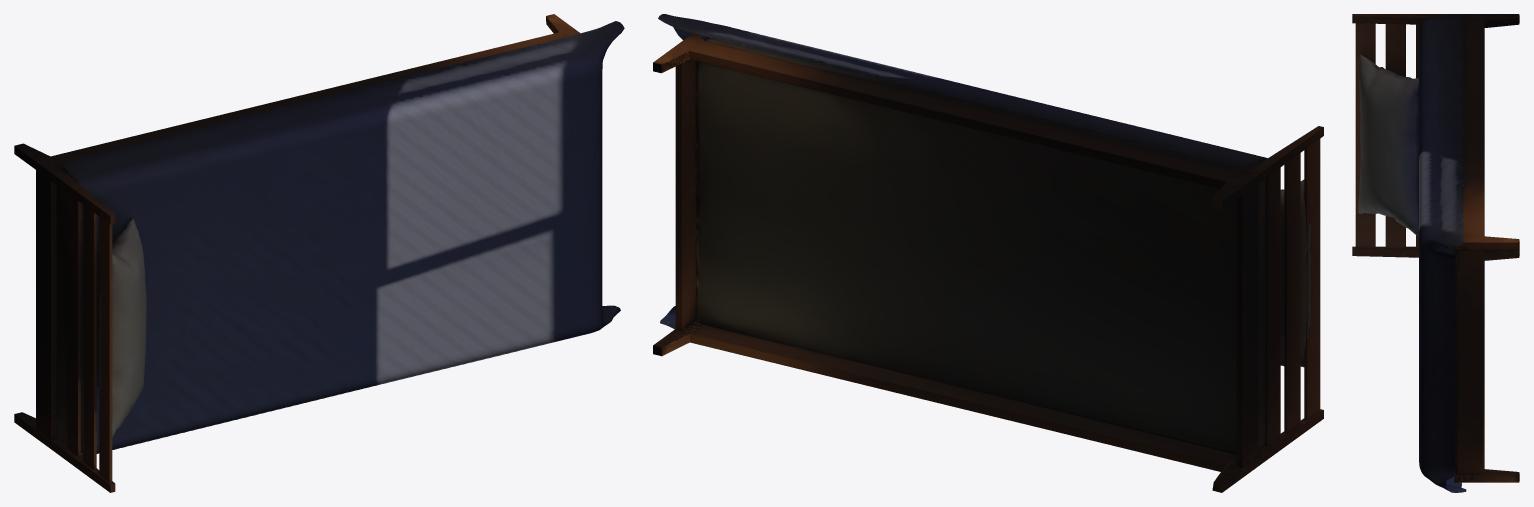
File: Bed.obj
The picture shows the model from 3 angles, left to right: view 1: azimuth 30°, elevation 25°; view 2: azimuth 150°, elevation 25°; view 3: azimuth 270°, elevation 25°; orthographic projection. The views are drawn at different scales.
Bounding box in the file's own units: 3.29 × 1.64 × 0.9644.
1 material, 1 textured.
